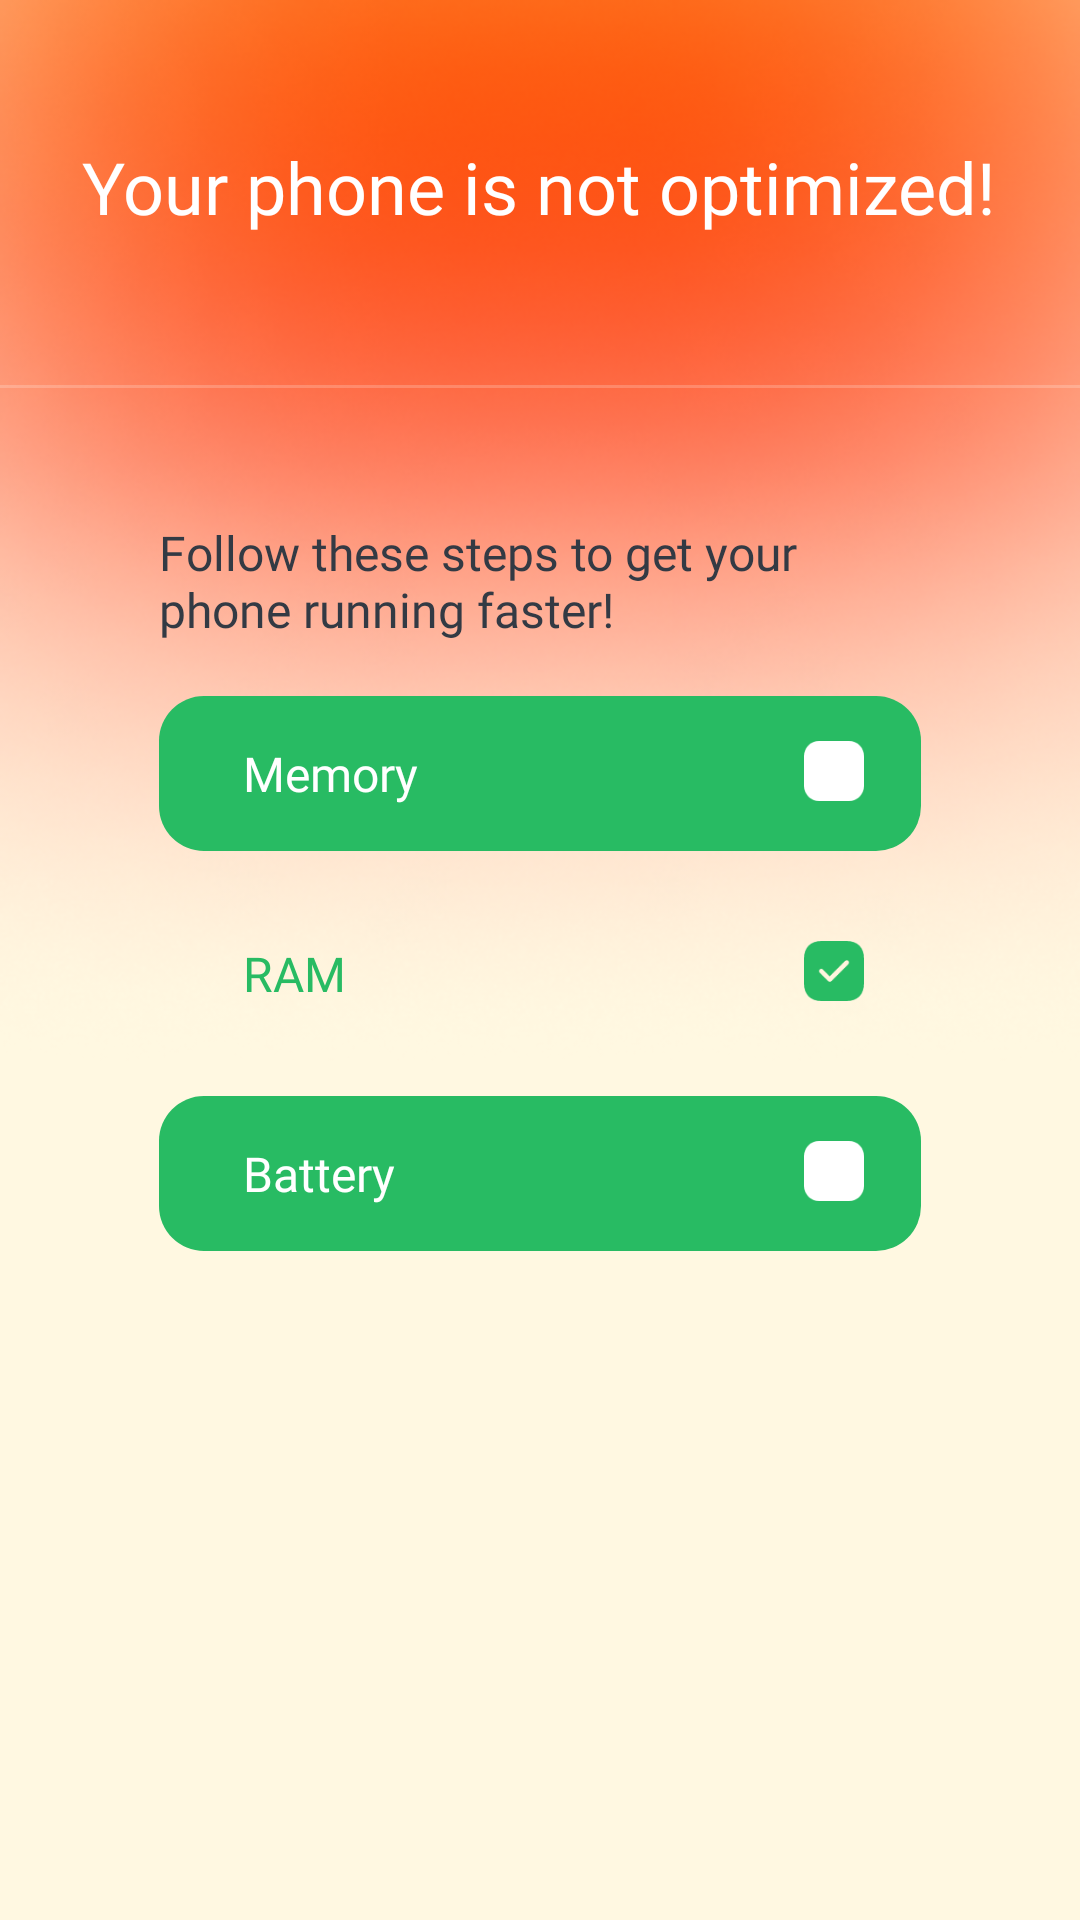

Named icons in this screenshot (1080x1920) and their bounding boxes, (x1, y1, x2, y2):
checkbox off: (804, 741, 864, 801), (804, 1141, 864, 1201)
checkbox on: (804, 941, 864, 1001)
